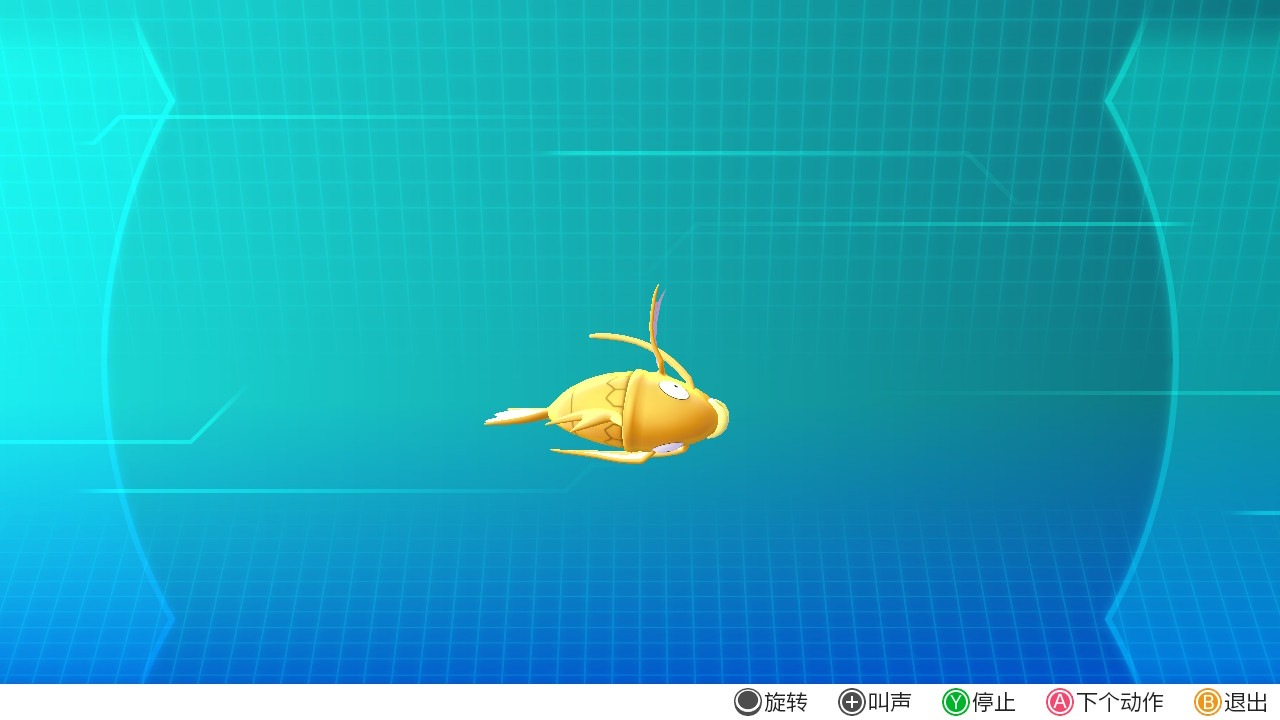Golden: (474, 282, 736, 486)
